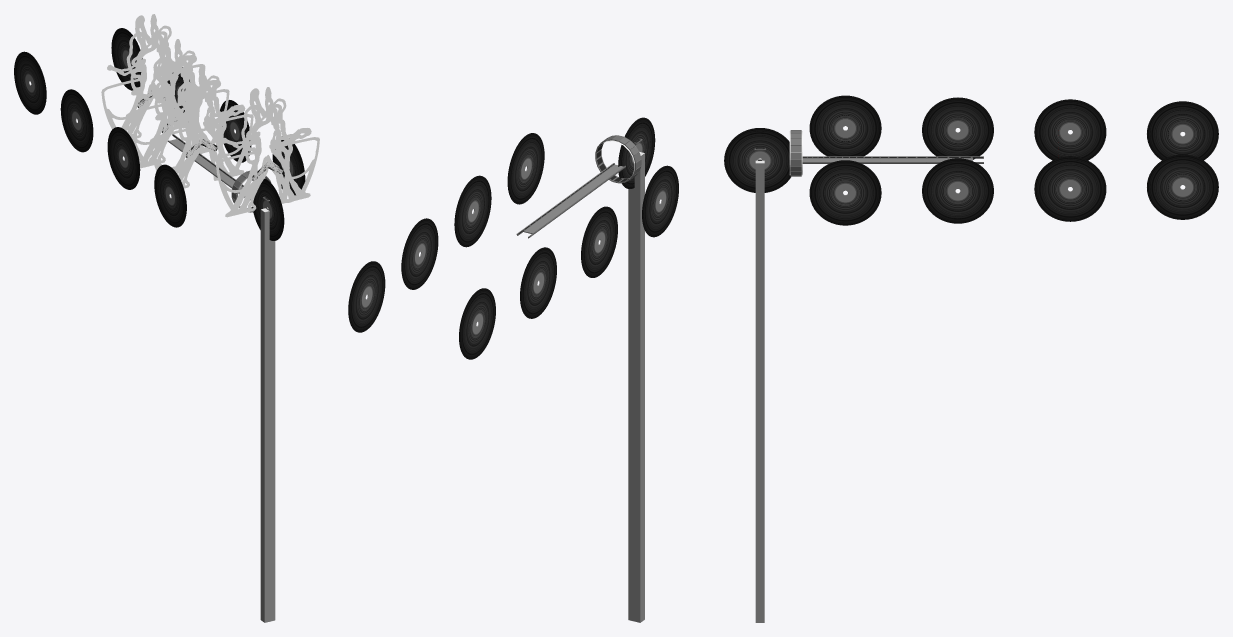
The model's file is queen.glb.
3 views of the same model, side by side, from view 1: azimuth 30°, elevation 25°; view 2: azimuth 150°, elevation 25°; view 3: azimuth 270°, elevation 25° (orthographic). The views are drawn at different scales.
Parts seen in each view (by area): view 1: SilhouetteMesh (×16), VinylMeshID (×10), Construction; view 2: VinylMeshID (×14), Construction, PlatformMirror; view 3: VinylMeshID (×15), Construction.
Part boxes in pixels (left/top/right/bottom): SilhouetteMesh (×16): left=101, top=14, right=319, bottom=217; VinylMeshID (×10): left=14, top=28, right=305, bottom=240; Construction: left=260, top=209, right=275, bottom=622; VinylMeshID (×14): left=348, top=117, right=678, bottom=359; Construction: left=628, top=153, right=644, bottom=622; PlatformMirror: left=524, top=164, right=623, bottom=233; VinylMeshID (×15): left=724, top=95, right=1218, bottom=225; Construction: left=755, top=163, right=764, bottom=622.
Size of the model in its own units: 34.2 by 147 by 110.
17 materials, 12 textured.
